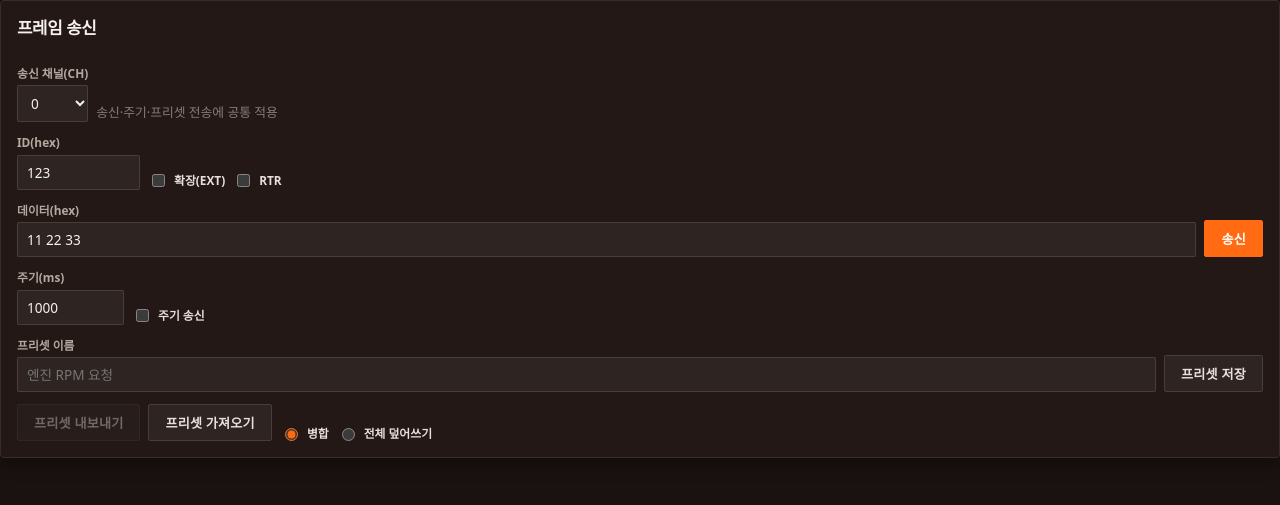
TxPanel › 송신 후 송신 피드백(송신됨: ...)을 표시한다
Click the button "송신". click: [1234, 239]
box: [1204,220,1263,257]
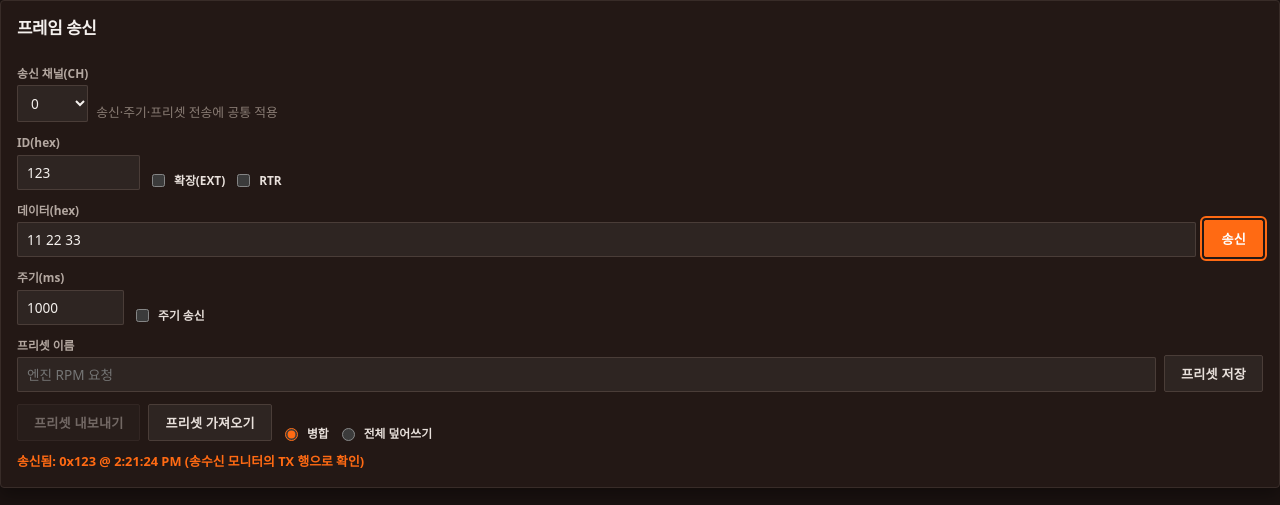
Check: the text "송신됨: 0x123 @ 2:21:24 PM (송수신 모니터의 TX 행으로 확인)" is shown, box [17,452,364,470]
